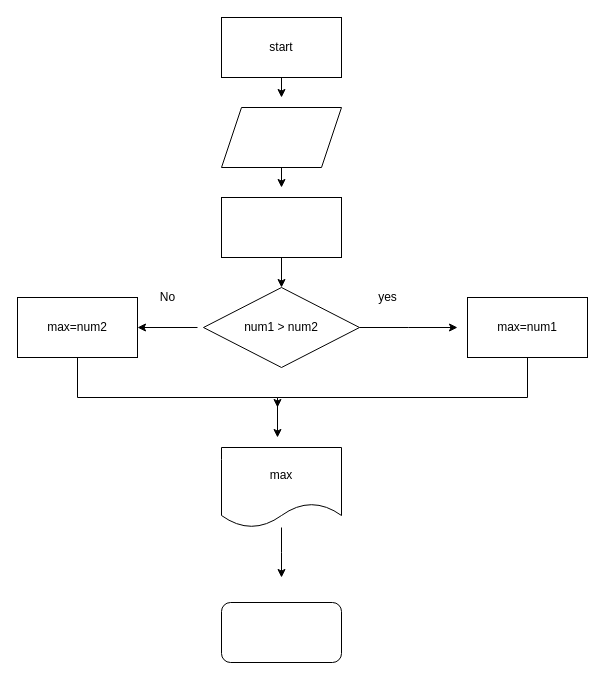
Some shapes in this 605 by 680 pixel diagram are drawn without their labels. The centre of each missing label's shape, as x and y in pixels:
"Finish" goes at point (281, 632).
"max=0" goes at point (281, 227).
"num1, num2" goes at point (281, 137).
